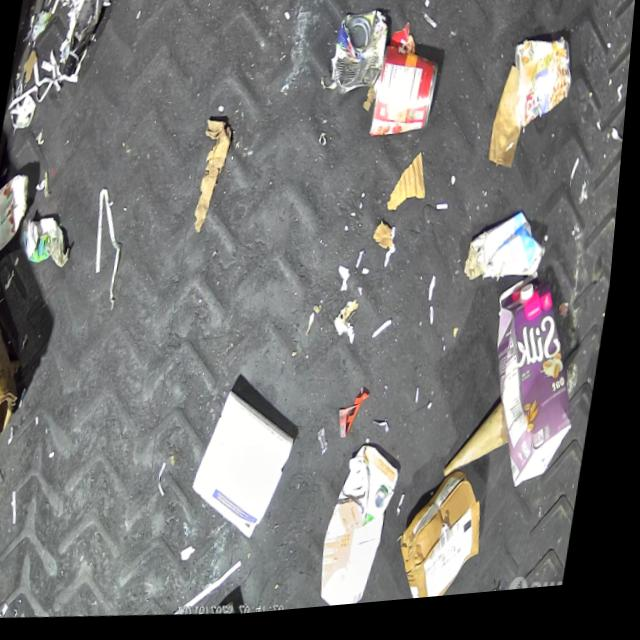can: (369, 48, 443, 149), (504, 43, 580, 141), (326, 11, 393, 105), (0, 167, 34, 260)
non_white_jug: (477, 271, 602, 503), (324, 448, 412, 614)
